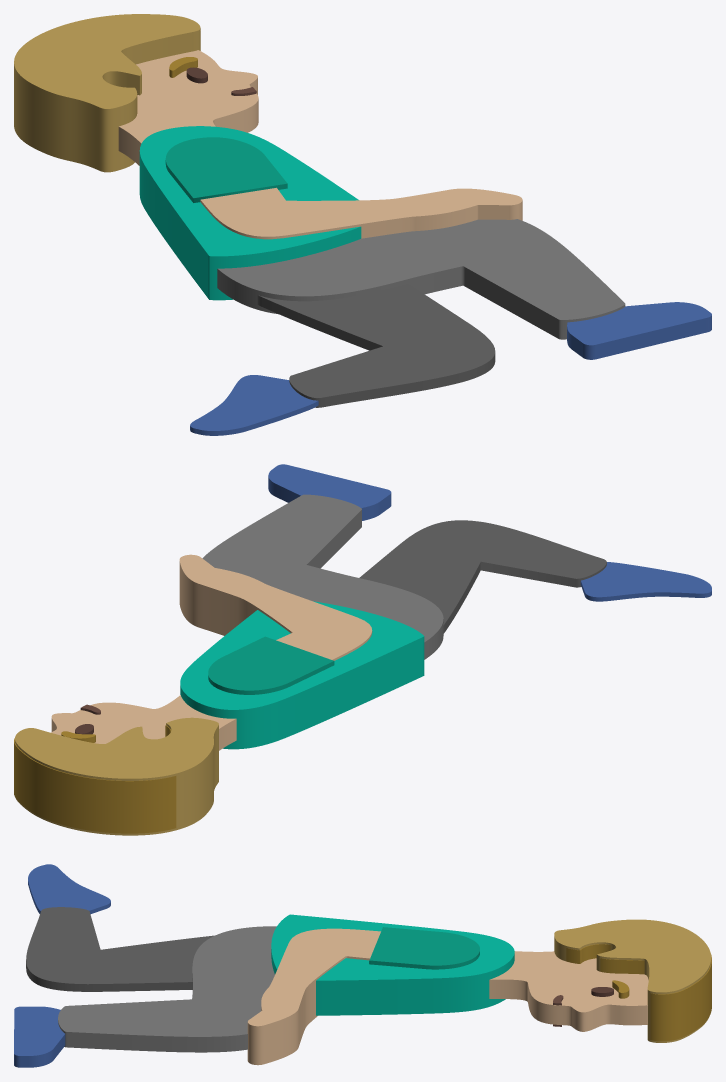
The model's file is emoji_u1f9ce_1f3fc_200d_2642_200d_27a1.glb.
3 renders of one model, top to bottom at view 1: azimuth 30°, elevation 25°; view 2: azimuth 150°, elevation 25°; view 3: azimuth 270°, elevation 25°, orthographic. The views are drawn at different scales.
Visible parts, largest first — view 1: emoji_u1f9ce_1f3fc_200d_2642_200d_27a1; view 2: emoji_u1f9ce_1f3fc_200d_2642_200d_27a1; view 3: emoji_u1f9ce_1f3fc_200d_2642_200d_27a1.
Part boxes in pixels (bbox=[...]): emoji_u1f9ce_1f3fc_200d_2642_200d_27a1: bbox=[14, 14, 711, 435]; emoji_u1f9ce_1f3fc_200d_2642_200d_27a1: bbox=[14, 464, 711, 835]; emoji_u1f9ce_1f3fc_200d_2642_200d_27a1: bbox=[14, 864, 711, 1067].
Size of the model in its own units: 0.0215 by 0.0026 by 0.0325.
